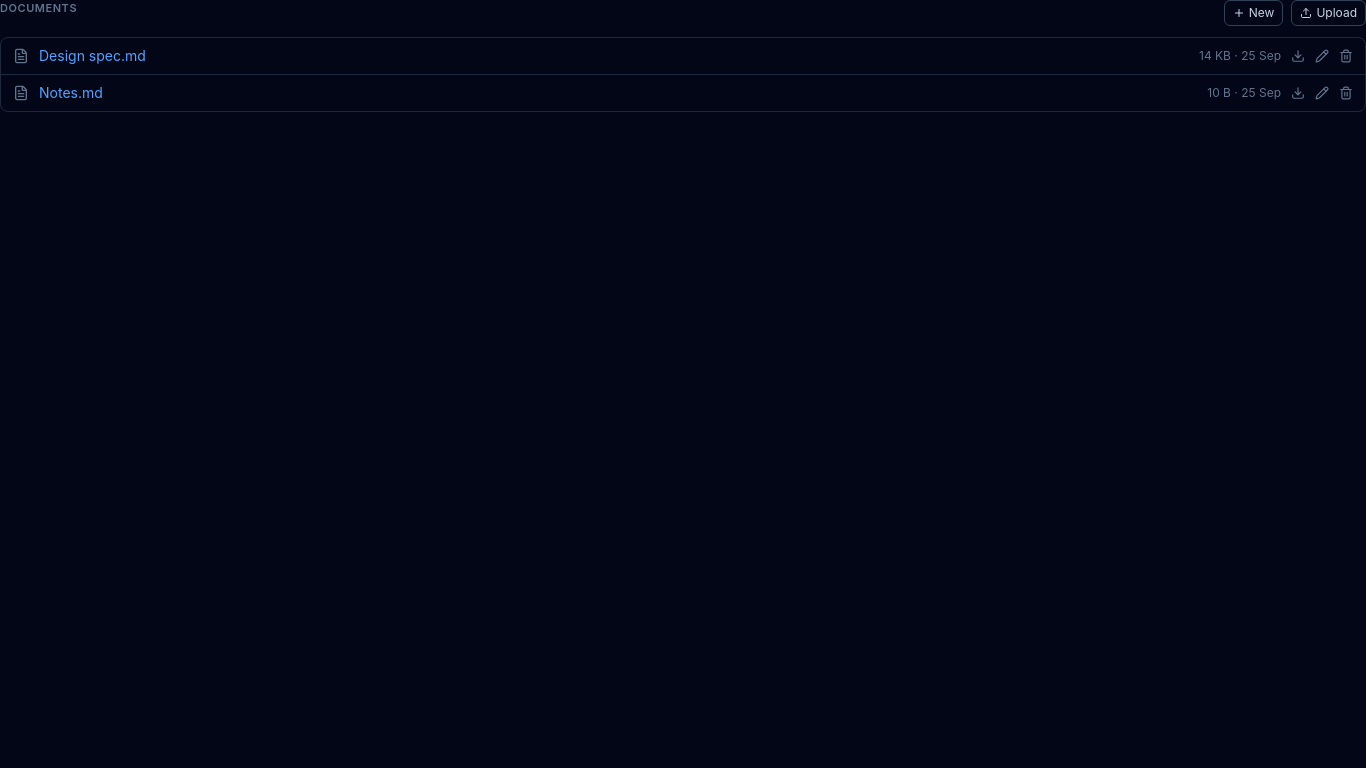
Test case: DocumentsSection › closes the new-document dialog on Cancel or Escape without creating anything
Click the button with aria-label "New document": (1254, 13) x1=1224 y1=0 x2=1283 y2=26
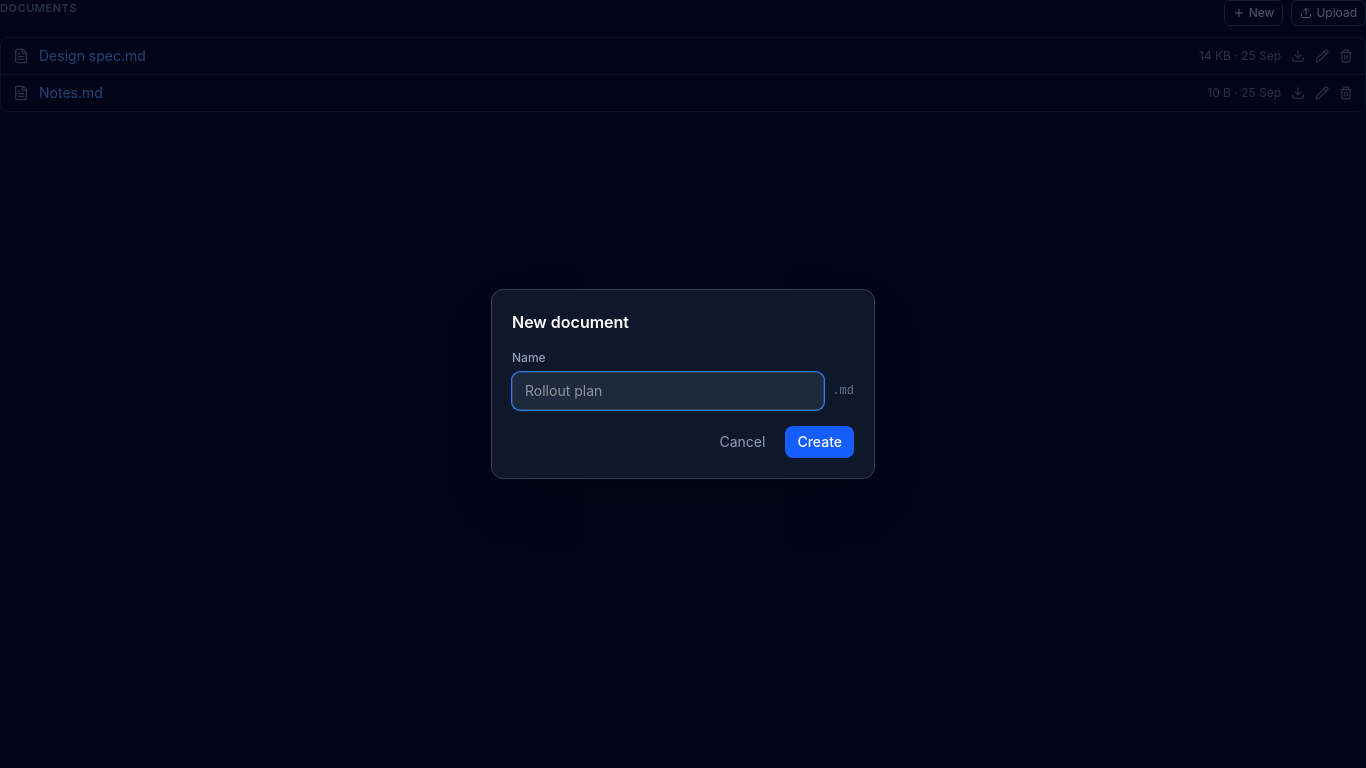
Press Escape
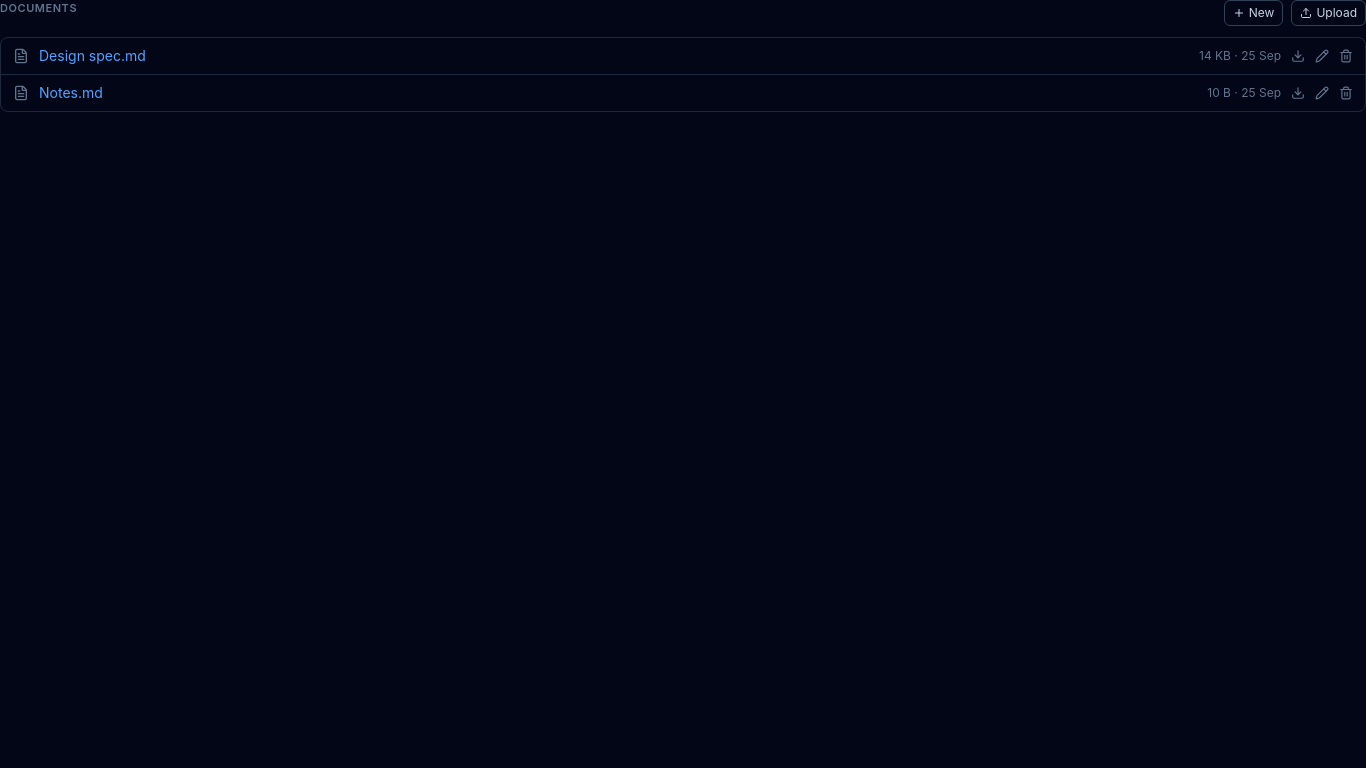
Result: the heading "New document" is gone
Click the button with aria-label "New document": (1254, 13) x1=1224 y1=0 x2=1283 y2=26
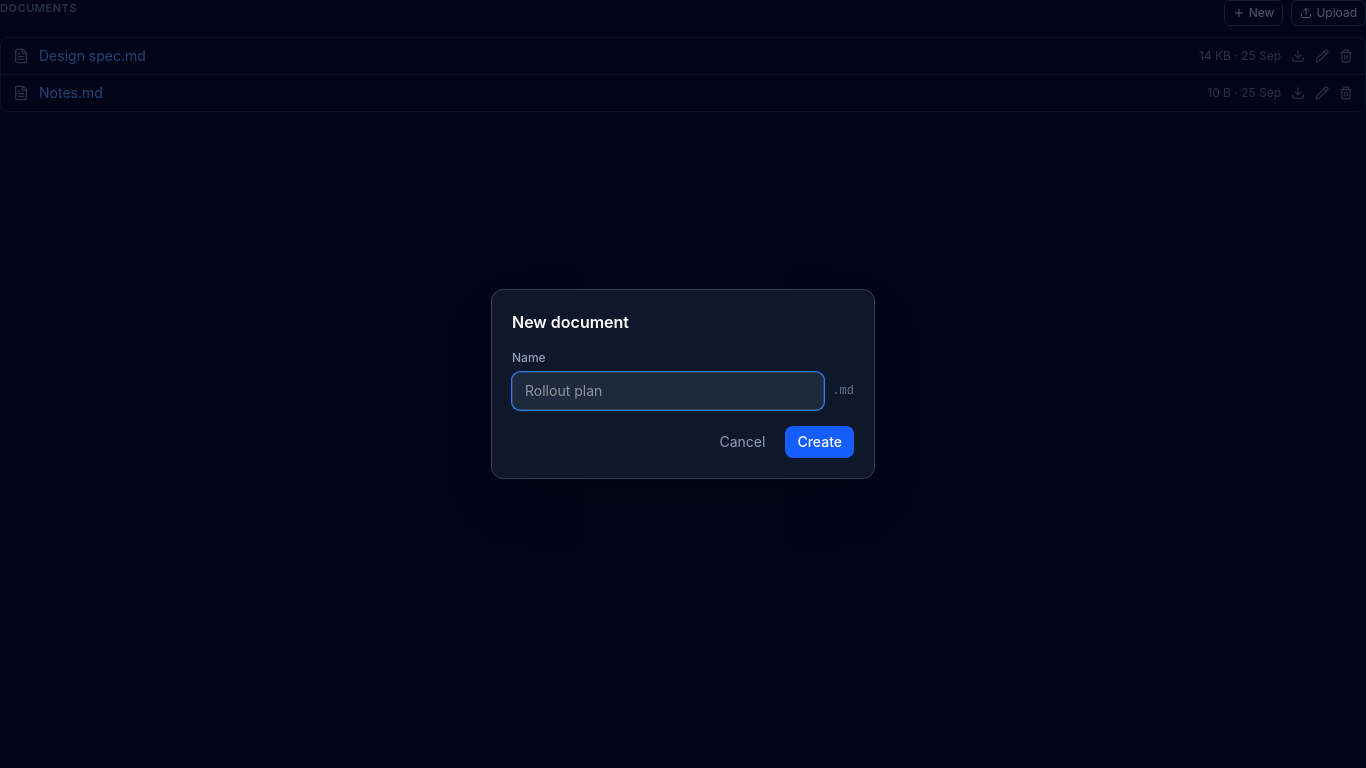
Click the button "Cancel": (742, 442) x1=708 y1=426 x2=777 y2=458
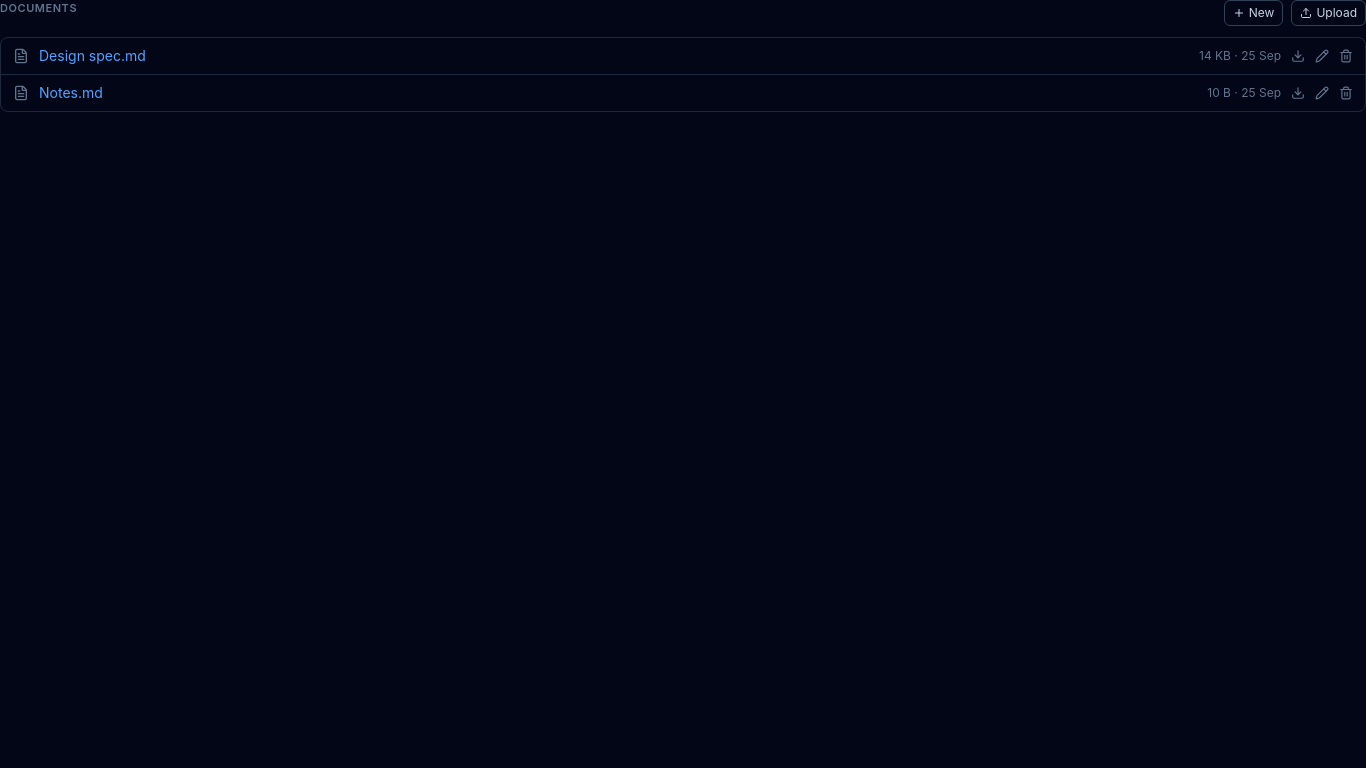
Result: the heading "New document" is gone
